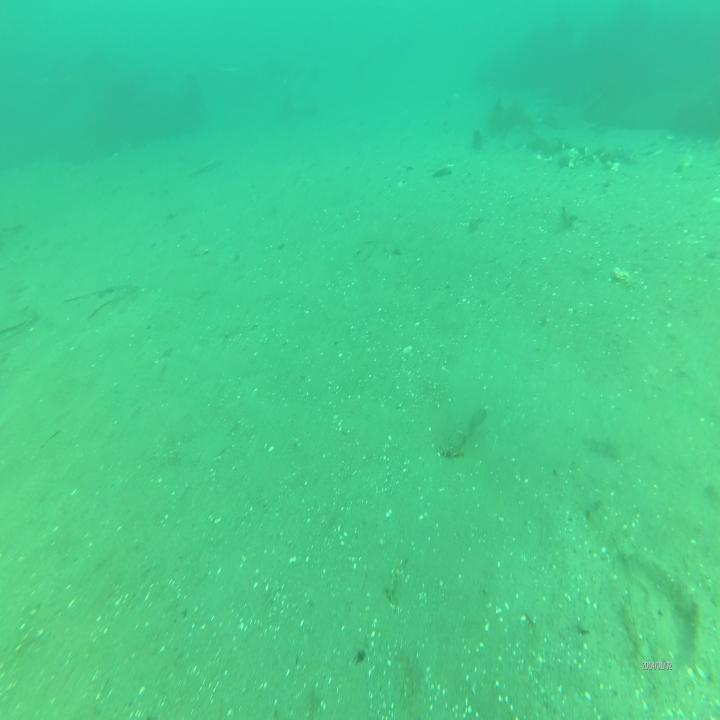scallop: (468, 407, 489, 438), (610, 256, 623, 284)
